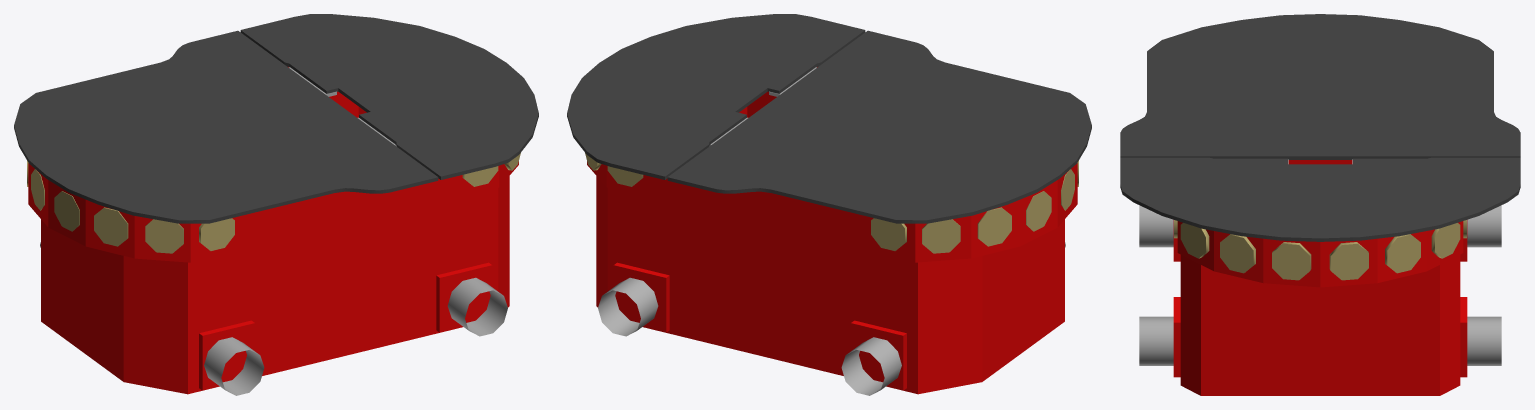
Rendered from chassis.dae.
3 renders of one model, left to right at view 1: azimuth 30°, elevation 25°; view 2: azimuth 150°, elevation 25°; view 3: azimuth 270°, elevation 25°, orthographic.
Parts seen in each view (by area): view 1: Cube_001, Plane_001, Cylinder_001, Plane_007, Plane_002, Plane_006, Plane_005, Cylinder, Cylinder_002; view 2: Cube_001, Plane_001, Cylinder_002, Plane_012, Plane_015, Plane_013, Plane_014, Cylinder_003, Cylinder_001; view 3: Cube_001, Plane_001, Cylinder, Cylinder_003, Plane_007, Plane_012, Plane_002, Plane_015, Plane_006, Plane_013.
Boxes of the visible parts, x1,y1,x2,y2 form: Cube_001: (14, 14, 538, 223); Plane_001: (28, 67, 518, 394); Cylinder_001: (54, 191, 234, 253); Plane_007: (447, 277, 507, 336); Plane_002: (204, 337, 264, 395); Plane_006: (436, 262, 492, 332); Plane_005: (199, 320, 254, 390); Cylinder: (462, 153, 520, 186); Cylinder_002: (27, 160, 44, 210); Cube_001: (567, 14, 1091, 223); Plane_001: (587, 67, 1077, 394); Cylinder_002: (871, 191, 1051, 253); Plane_012: (598, 277, 658, 336); Plane_015: (841, 337, 901, 395); Plane_013: (613, 262, 669, 332); Plane_014: (851, 320, 906, 390); Cylinder_003: (585, 153, 643, 186); Cylinder_001: (1061, 160, 1078, 210); Cube_001: (1120, 14, 1520, 241); Plane_001: (1177, 160, 1463, 395); Cylinder: (1174, 220, 1311, 280); Cylinder_003: (1329, 220, 1466, 280); Plane_007: (1139, 316, 1173, 365); Plane_012: (1467, 316, 1501, 365); Plane_002: (1139, 205, 1173, 247); Plane_015: (1467, 205, 1501, 247); Plane_006: (1173, 297, 1180, 377); Plane_013: (1460, 297, 1467, 377).
Bounding box in the file's own units: 0.5082 × 0.3831 × 0.1956.
